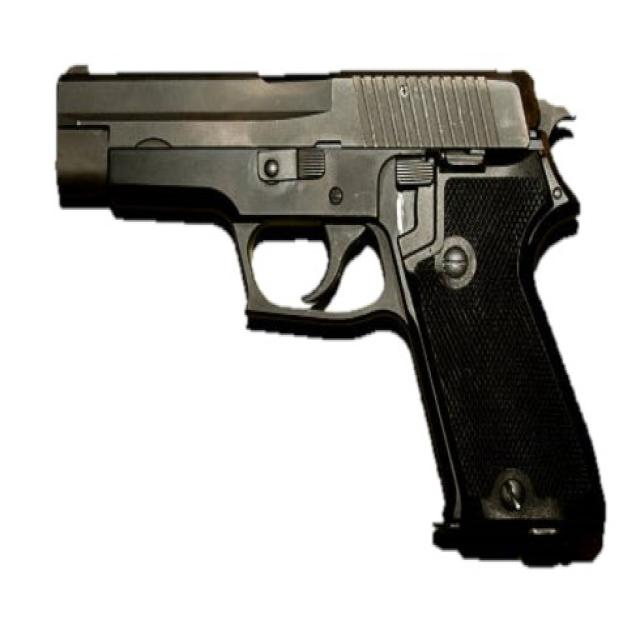pistol: (46, 50, 616, 585)
